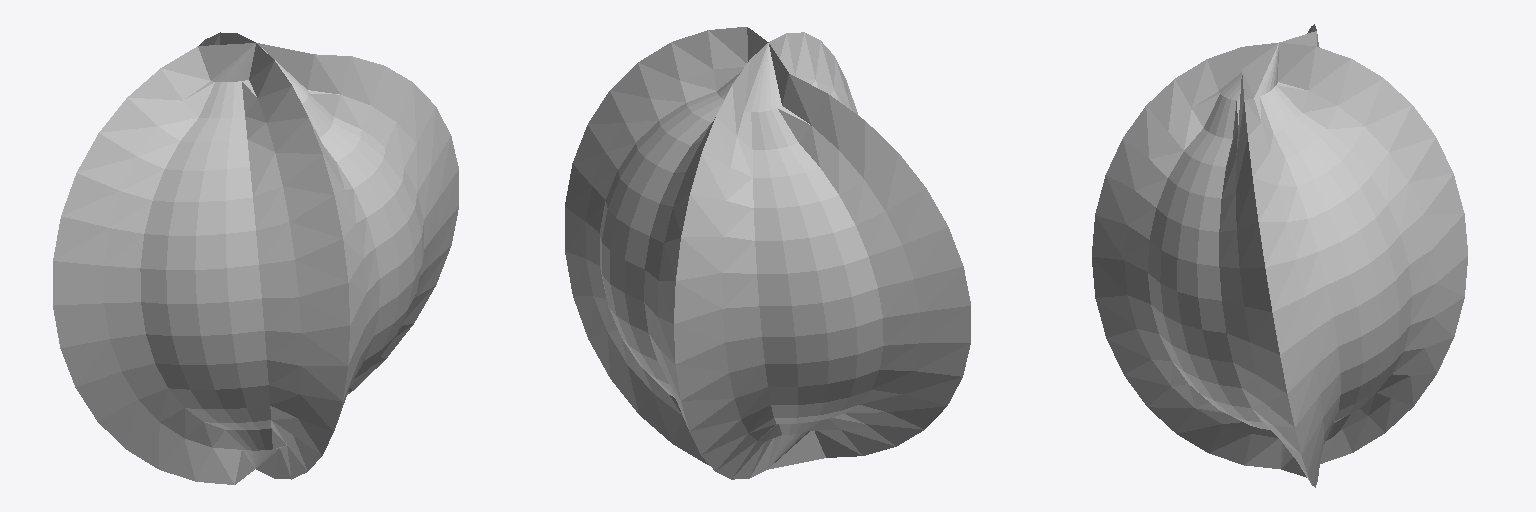
File: Bronchi.obj
3 views of the same model, side by side, from view 1: azimuth 30°, elevation 25°; view 2: azimuth 150°, elevation 25°; view 3: azimuth 270°, elevation 25° (orthographic).
Parts seen in each view (by area): view 1: Sphere; view 2: Sphere; view 3: Sphere.
Boxes of the visible parts, x1=… form: Sphere: x1=53, y1=32, x2=458, y2=484; Sphere: x1=565, y1=27, x2=970, y2=479; Sphere: x1=1092, y1=24, x2=1467, y2=487.
Size of the model in its own units: 2.38 by 2.39 by 1.91.